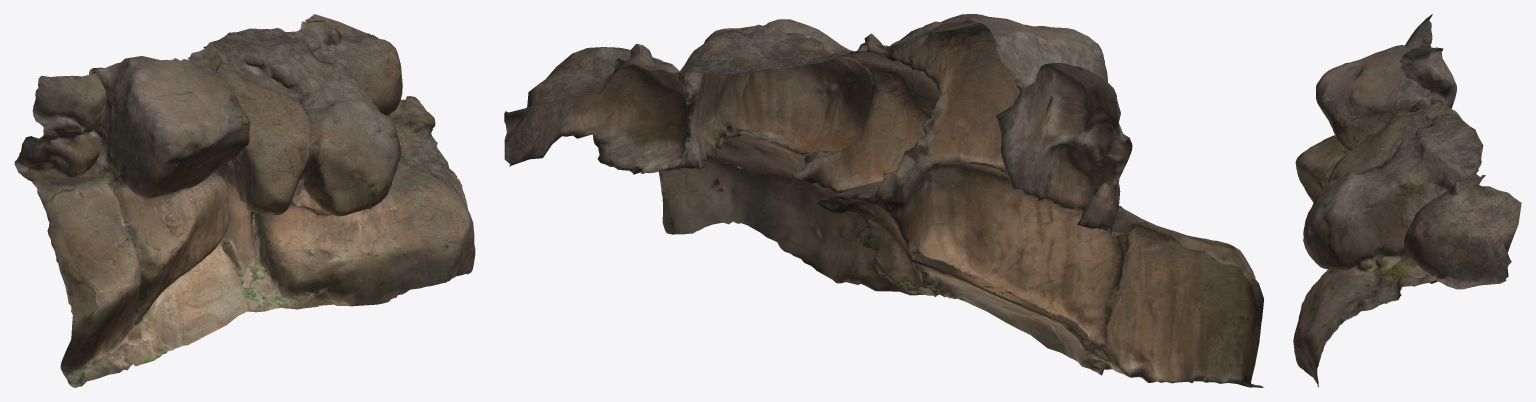
File: namaqualand_cliff_01.glb
3 renders of one model, left to right at view 1: azimuth 30°, elevation 25°; view 2: azimuth 150°, elevation 25°; view 3: azimuth 270°, elevation 25°, orthographic. The views are drawn at different scales.
Visible parts, largest first — view 1: namaqualand_cliff_01; view 2: namaqualand_cliff_01; view 3: namaqualand_cliff_01.
Part boxes in pixels (box(x1,y1,x2,y2)): namaqualand_cliff_01: box(14, 14, 475, 387); namaqualand_cliff_01: box(504, 14, 1263, 387); namaqualand_cliff_01: box(1293, 14, 1521, 387).
Size of the model in its own units: 8.28 by 4.96 by 4.39.
Materials: 1 (1 with a texture image).
